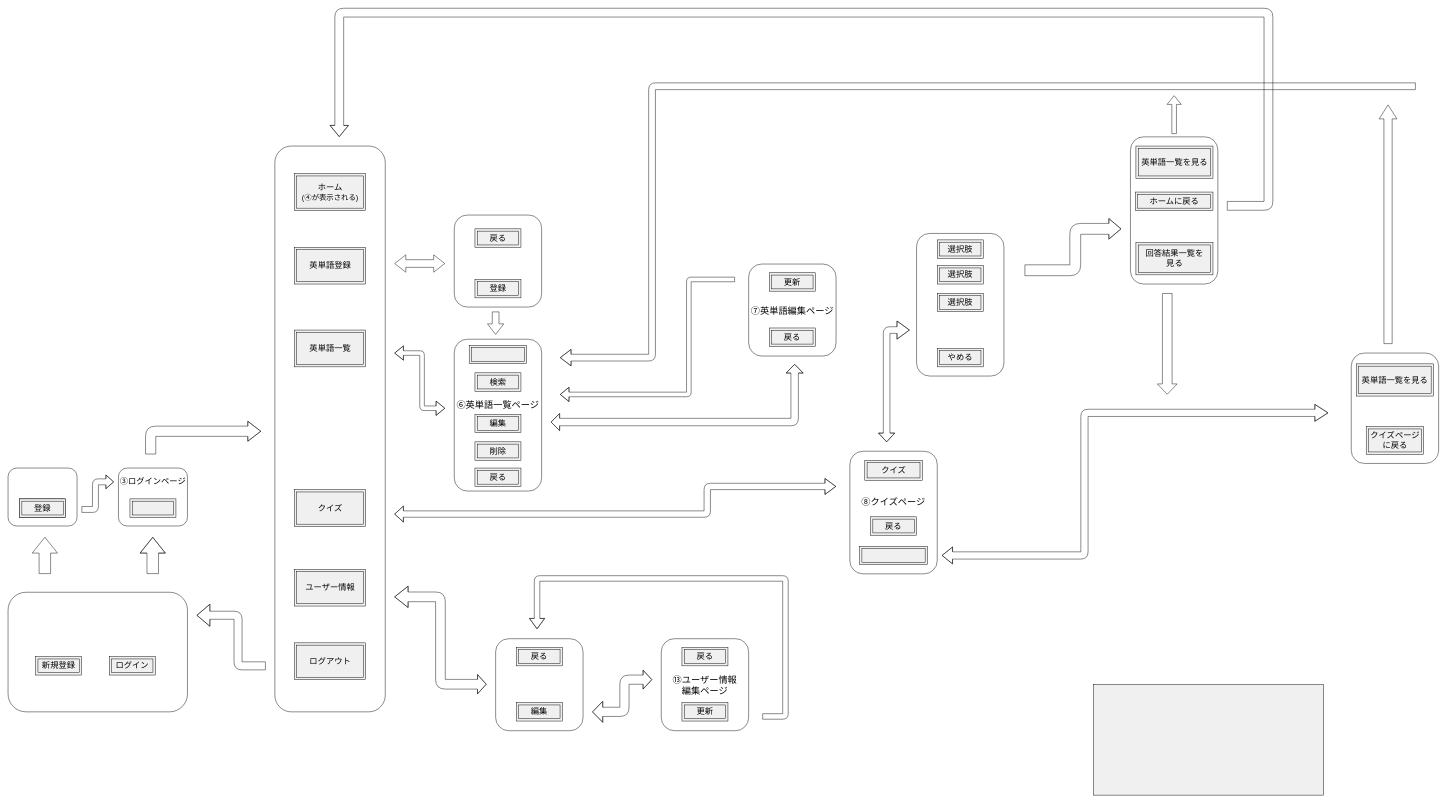
Some shapes in this 1447 by 803 pixel diagram are drawn without their labels. The shapes that lost their labels are listed below. From the top down, each one's box as (x1, y1, x2, y2) in pixels, then its label:
(1130, 136, 1218, 284): ⑩回答結果ページ
(454, 215, 542, 307): ⑤英単語登録ページ
(916, 233, 1004, 376): ⑨問題ページ
(469, 345, 527, 364): 並べ替える
(1351, 353, 1439, 463): ⑪回答結果一覧ページ
(274, 146, 385, 712): ④ホームページ
(8, 468, 77, 526): ②新規登録ページ
(129, 498, 176, 517): ログインする
(859, 546, 927, 565): 回答結果一覧
(8, 592, 187, 712): ①Welcomeページ
(495, 638, 583, 731): ⑫ユーザー情報 ページ
(1093, 684, 1324, 795): ④-⑬まで、 ④に記述してある ６つのボタンが 表示されています。
